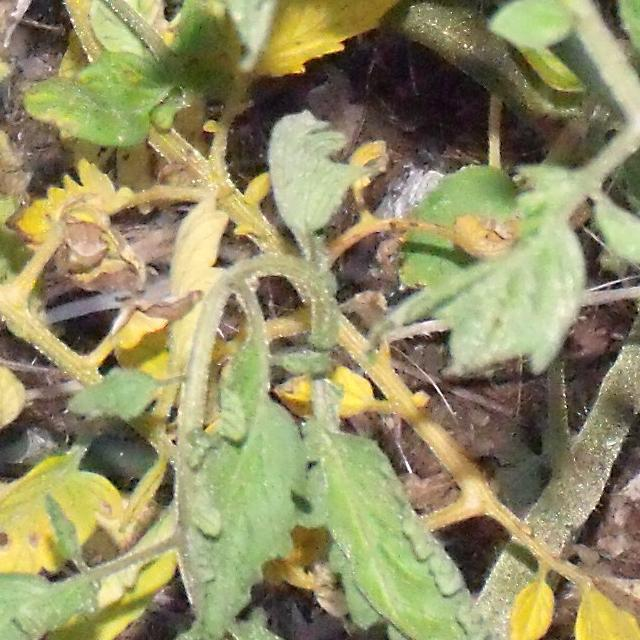Tomato leaf bacterial spot: (276, 341, 513, 640)
